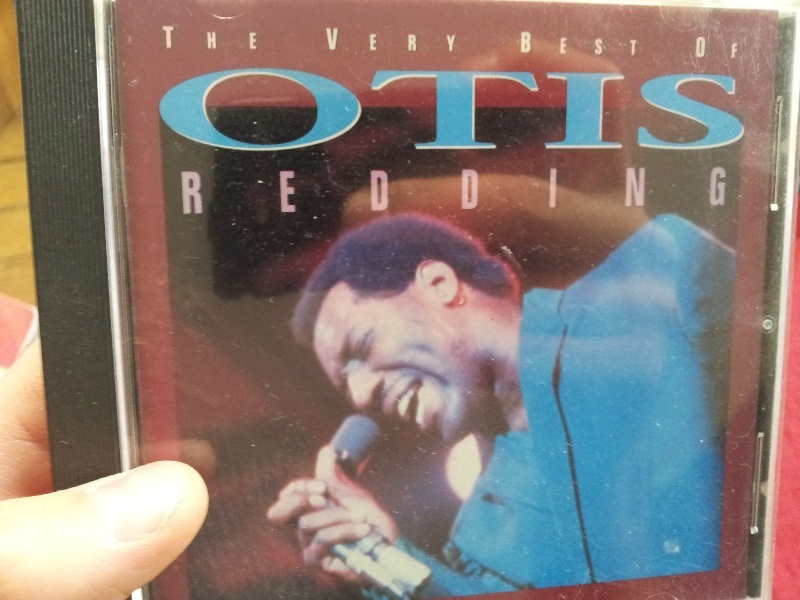text: (161, 68, 176, 155), (177, 68, 192, 155), (193, 68, 208, 155), (209, 68, 224, 155), (225, 68, 240, 155), (241, 68, 256, 155), (257, 68, 272, 155), (273, 68, 288, 155), (289, 68, 304, 155), (305, 68, 320, 155), (321, 68, 336, 155), (337, 68, 352, 155), (353, 68, 368, 155), (369, 68, 384, 155), (385, 68, 400, 155), (401, 68, 416, 155), (417, 68, 432, 155), (433, 68, 448, 155), (449, 68, 464, 155), (465, 68, 480, 155), (481, 68, 496, 155), (497, 68, 512, 155), (513, 68, 528, 155), (529, 68, 544, 155), (545, 68, 560, 155), (561, 68, 576, 155), (577, 68, 592, 155), (593, 68, 608, 155), (609, 68, 624, 155), (625, 68, 640, 155), (641, 68, 656, 155), (657, 68, 672, 155), (673, 68, 688, 155), (689, 68, 704, 155), (705, 68, 720, 155), (721, 68, 736, 155), (737, 68, 747, 155), (193, 166, 208, 217), (209, 166, 224, 217), (225, 166, 240, 217), (241, 166, 256, 217), (257, 166, 272, 217), (273, 166, 288, 217), (289, 166, 304, 217), (305, 166, 320, 217), (321, 166, 336, 217), (337, 166, 352, 217), (353, 166, 368, 217), (369, 166, 384, 217), (385, 166, 400, 217), (401, 166, 416, 217), (417, 166, 432, 217), (433, 166, 448, 217), (449, 166, 464, 217), (465, 166, 480, 217), (481, 166, 496, 217), (497, 166, 512, 217), (513, 166, 528, 217), (529, 166, 544, 217), (545, 166, 560, 217), (561, 166, 576, 217), (577, 166, 592, 217), (593, 166, 608, 217), (609, 166, 624, 217), (625, 166, 640, 217), (641, 166, 656, 217), (657, 166, 672, 217), (673, 166, 688, 217), (689, 166, 704, 217), (705, 166, 720, 217), (181, 166, 192, 217), (721, 166, 732, 217), (177, 25, 192, 51), (193, 25, 208, 51), (209, 25, 224, 51), (225, 25, 240, 51), (241, 25, 256, 51), (337, 27, 352, 53), (353, 27, 368, 53), (369, 27, 384, 53), (385, 27, 400, 53), (401, 27, 416, 53), (417, 27, 432, 53), (433, 27, 448, 53), (529, 31, 544, 57), (545, 31, 560, 57), (561, 31, 576, 57), (577, 31, 592, 57), (593, 31, 608, 57), (609, 31, 624, 57), (705, 36, 720, 61), (721, 36, 736, 61), (162, 25, 176, 51), (625, 31, 638, 57), (325, 27, 336, 53), (157, 68, 160, 155), (449, 27, 457, 53), (521, 31, 528, 57), (697, 36, 704, 61), (737, 36, 740, 61), (257, 25, 258, 51)
